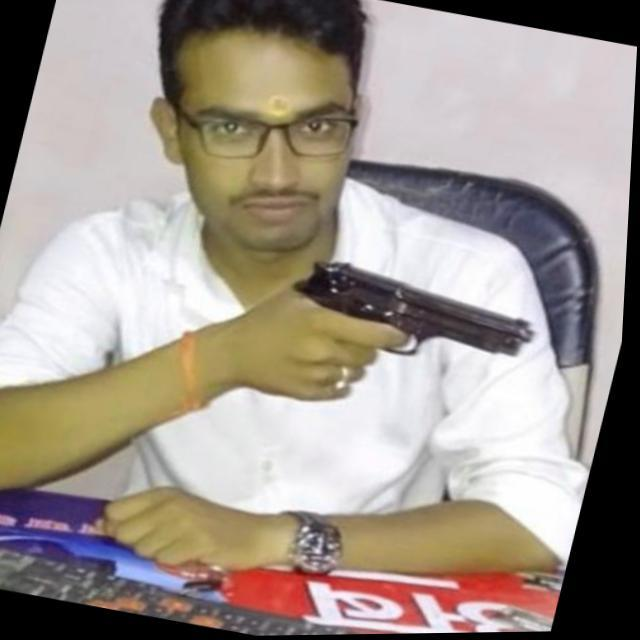weapon: (268, 249, 551, 431)
